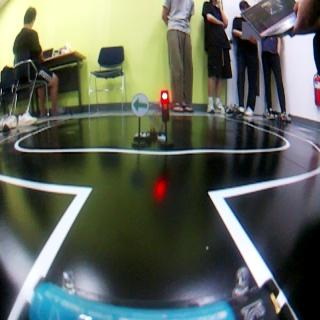left: (129, 94, 148, 118)
red: (160, 91, 172, 152)
